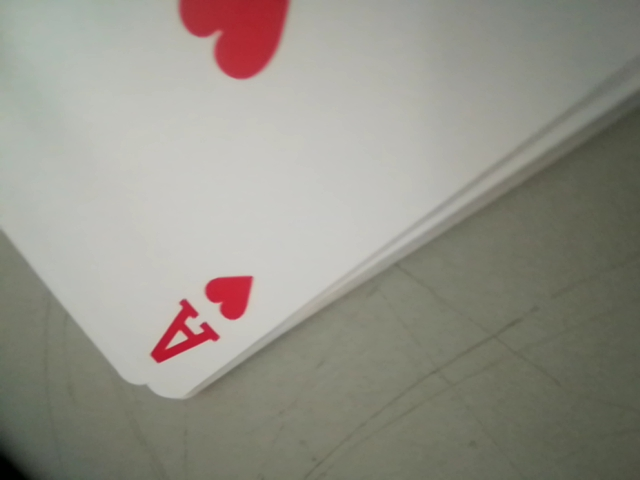hx a: (145, 276, 254, 375)
